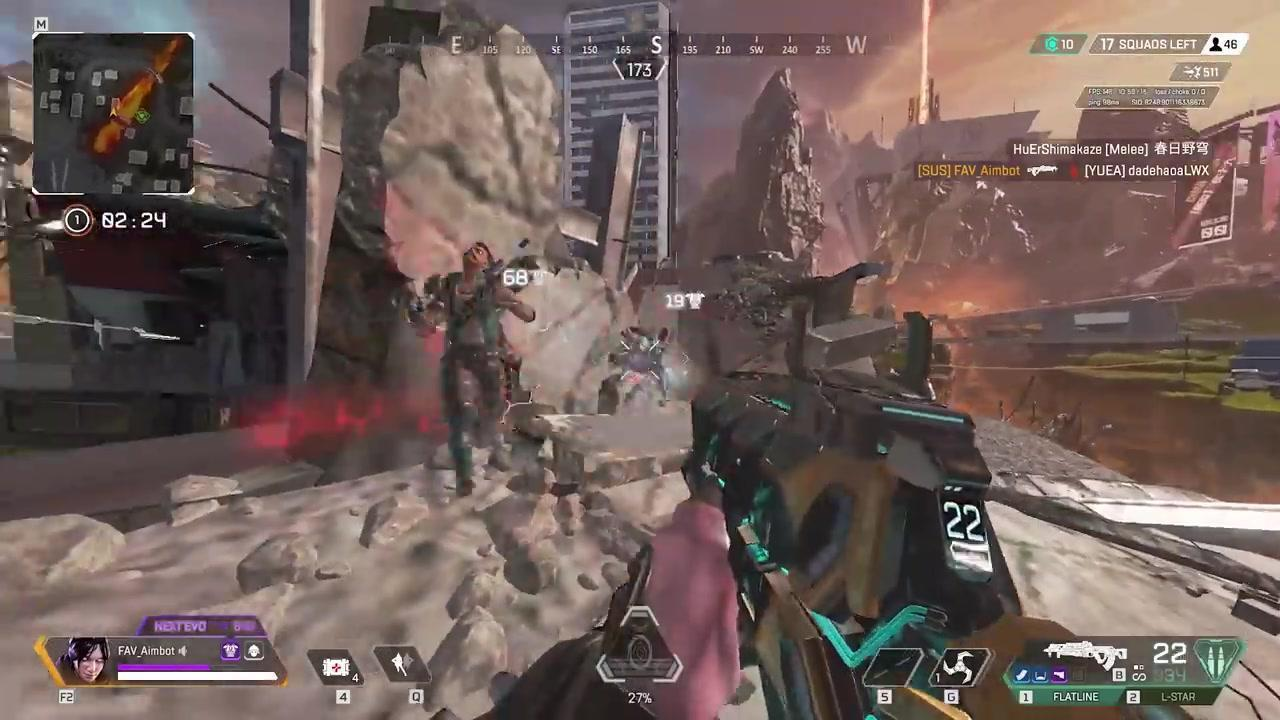avatar: (420, 241, 521, 486)
